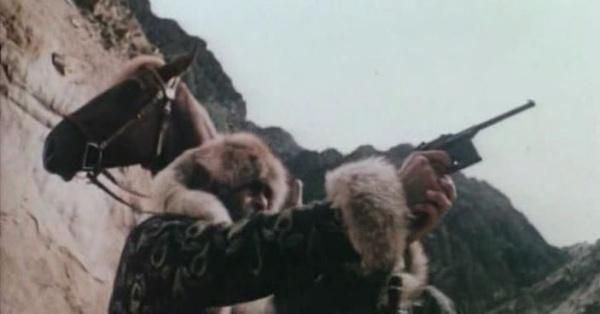Gun: (415, 99, 536, 176)
